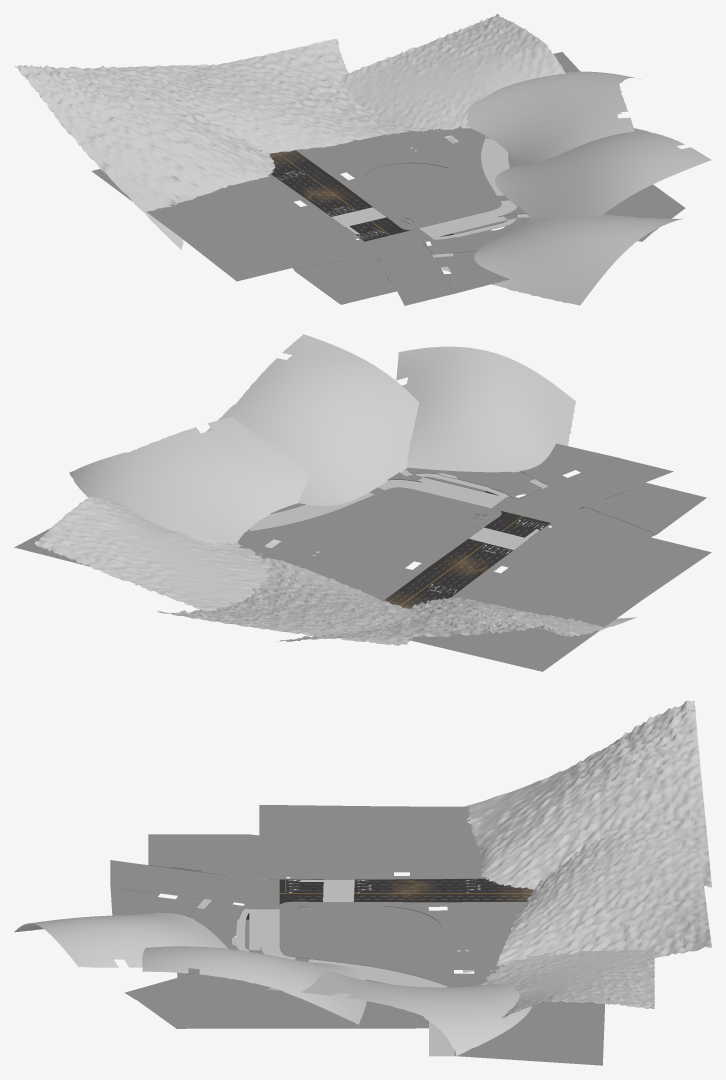
Rendered from terrain.obj.
3 renders of one model, top to bottom at view 1: azimuth 30°, elevation 25°; view 2: azimuth 150°, elevation 25°; view 3: azimuth 270°, elevation 25°, orthographic. The views are drawn at different scales.
Parts seen in each view (by area): view 1: sand, terrain1, roads, Object082, ground; view 2: sand, terrain1, roads, Object082, ground, Object083; view 3: sand, terrain1, roads, Object082.
Part boxes in pixels (box(x1,y1,x2,y2)): sand: box(14, 14, 711, 305); terrain1: box(91, 52, 685, 304); roads: box(365, 112, 649, 305); Object082: box(269, 150, 409, 241); ground: box(293, 138, 649, 304); sand: box(34, 334, 636, 645); terrain1: box(14, 443, 711, 671); roads: box(247, 458, 673, 531); Object082: box(384, 510, 550, 608); ground: box(270, 458, 705, 600); Object083: box(569, 505, 656, 537); sand: box(14, 700, 711, 1055); terrain1: box(110, 804, 604, 1065); roads: box(110, 860, 454, 1056); Object082: box(279, 879, 533, 904).
Size of the model in its own units: 53300 by 11348 by 55255.
